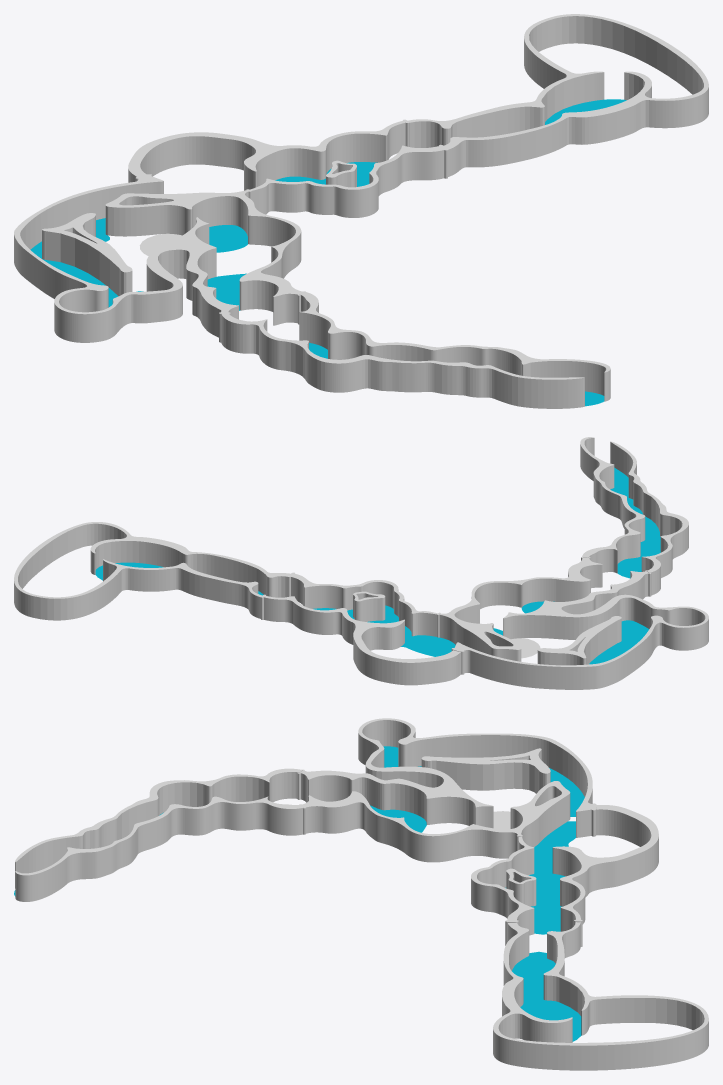
The model's file is Intimacy.fbx.
3 views of the same model, one above another, from view 1: azimuth 30°, elevation 25°; view 2: azimuth 150°, elevation 25°; view 3: azimuth 270°, elevation 25° (orthographic). The views are drawn at different scales.
Parts seen in each view (by area): view 1: Mainland Walls 2, Mainland Walls 4, Mainland Walls 1, Mainland Walls 3, Mainland Floors 2, Mainland Floors 3, Mainland Floors 4; view 2: Mainland Walls 2, Mainland Walls 4, Mainland Walls 3, Mainland Walls 1, Mainland Floors 1, Mainland Floors 3, Mainland Floors 2; view 3: Mainland Walls 2, Mainland Walls 1, Mainland Walls 4, Mainland Walls 3, Mainland Floors 3, Mainland Floors 4, Mainland Floors 2.
Part boxes in pixels (<box>): Mainland Walls 2: <box>14,174,305,342</box>; Mainland Walls 4: <box>408,14,708,176</box>; Mainland Walls 1: <box>221,291,610,408</box>; Mainland Walls 3: <box>128,119,447,217</box>; Mainland Floors 2: <box>30,218,246,310</box>; Mainland Floors 3: <box>209,162,377,252</box>; Mainland Floors 4: <box>545,99,626,124</box>; Mainland Walls 2: <box>437,557,708,689</box>; Mainland Walls 4: <box>14,522,289,620</box>; Mainland Walls 3: <box>261,572,460,685</box>; Mainland Walls 1: <box>580,437,688,595</box>; Mainland Floors 1: <box>610,467,660,578</box>; Mainland Floors 3: <box>313,605,502,656</box>; Mainland Floors 2: <box>521,601,648,664</box>; Mainland Walls 2: <box>297,718,596,862</box>; Mainland Walls 1: <box>15,768,303,901</box>; Mainland Walls 4: <box>493,922,708,1070</box>; Mainland Walls 3: <box>471,805,658,946</box>; Mainland Floors 3: <box>505,821,575,934</box>; Mainland Floors 4: <box>512,951,581,1041</box>; Mainland Floors 2: <box>370,746,584,832</box>.
Bounding box in the file's own units: 1140 × 43.51 × 1027.
